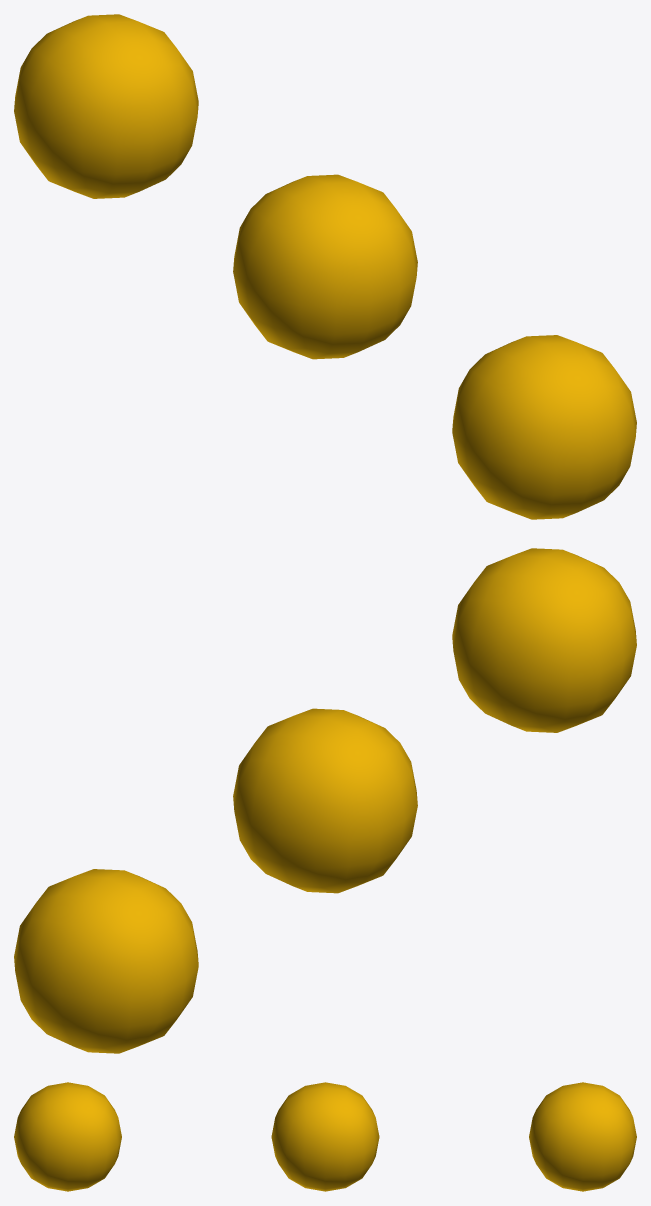
File: balls.fbx
The picture shows the model from 3 angles, top to bottom: view 1: azimuth 30°, elevation 25°; view 2: azimuth 150°, elevation 25°; view 3: azimuth 270°, elevation 25°; orthographic projection. The views are drawn at different scales.
Visible parts, largest first — view 1: Cube; view 2: Cube; view 3: Cube.
Part boxes in pixels (x1,y1,x2,y2): Cube: (14,14,636,519); Cube: (14,548,636,1053); Cube: (14,1082,636,1191).
Bounding box in the file's own units: 168 × 168 × 968.
